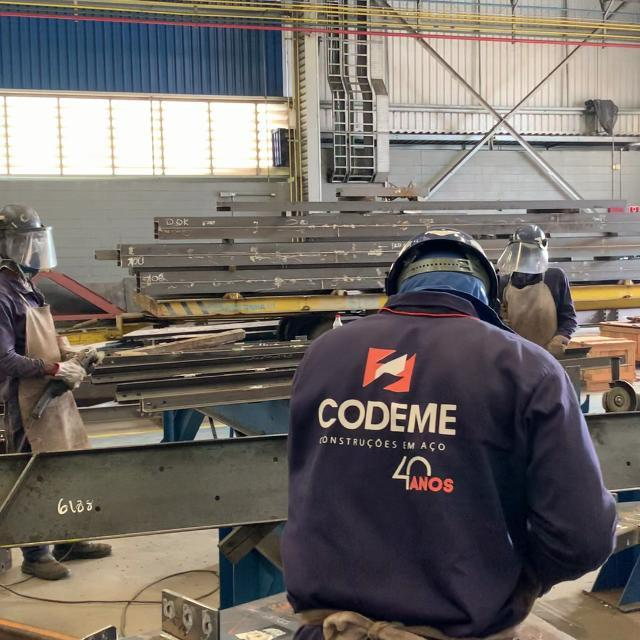eye-glass: (5, 228, 60, 272)
face-shield: (49, 359, 89, 391)
mask: (1, 201, 98, 449), (1, 202, 42, 233)
safety-shoe: (23, 549, 72, 582), (52, 543, 111, 561)
